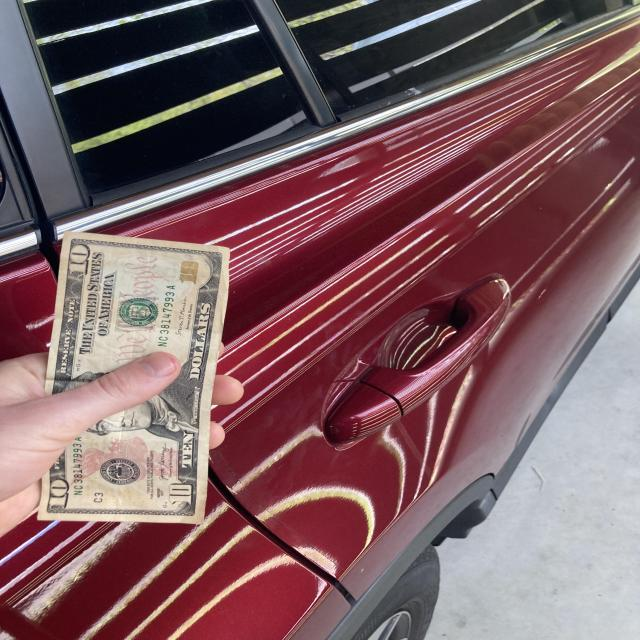ten: (41, 231, 233, 525)
